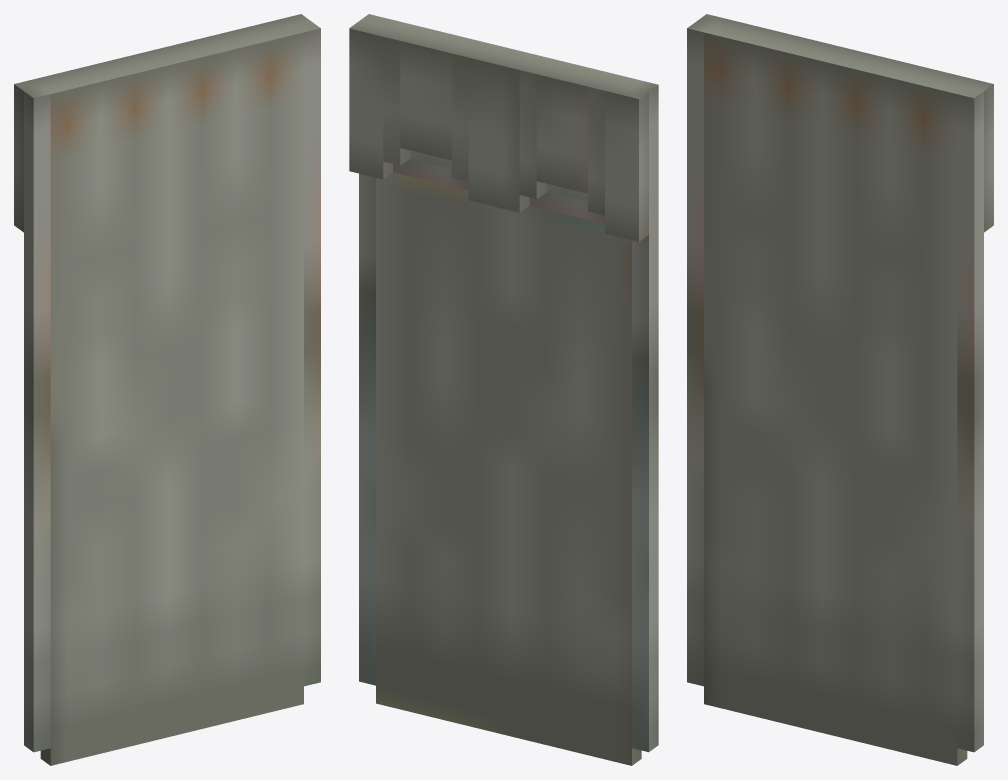
The model's file is CurtainGreyLeftSpliced_01.fbx.
3 renders of one model, left to right at view 1: azimuth 30°, elevation 25°; view 2: azimuth 150°, elevation 25°; view 3: azimuth 330°, elevation 25°, orthographic.
Visible parts, largest first — view 1: CurtainGreyLeftSpliced_01; view 2: CurtainGreyLeftSpliced_01; view 3: CurtainGreyLeftSpliced_01.
Boxes of the visible parts, bbox=[...] form: CurtainGreyLeftSpliced_01: bbox=[14, 14, 320, 765]; CurtainGreyLeftSpliced_01: bbox=[349, 14, 658, 765]; CurtainGreyLeftSpliced_01: bbox=[687, 14, 993, 765].
Size of the model in its own units: 85 by 10 by 190.
Materials: 1 (1 with a texture image).
